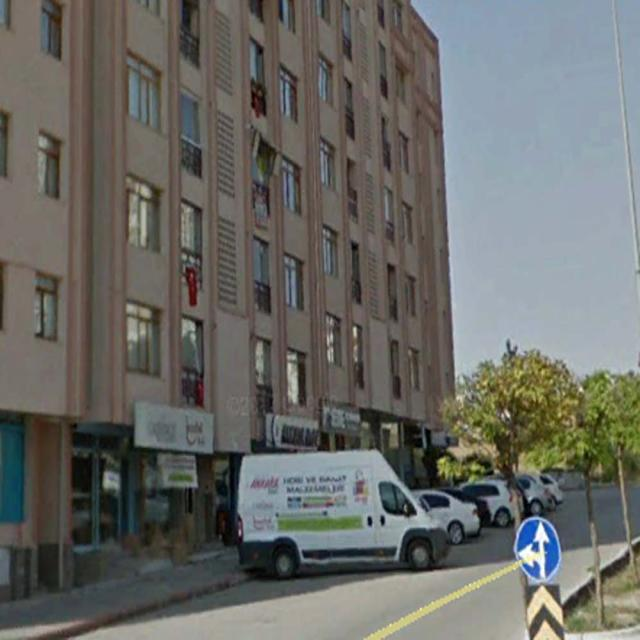ilerisol: (514, 515, 561, 584)
